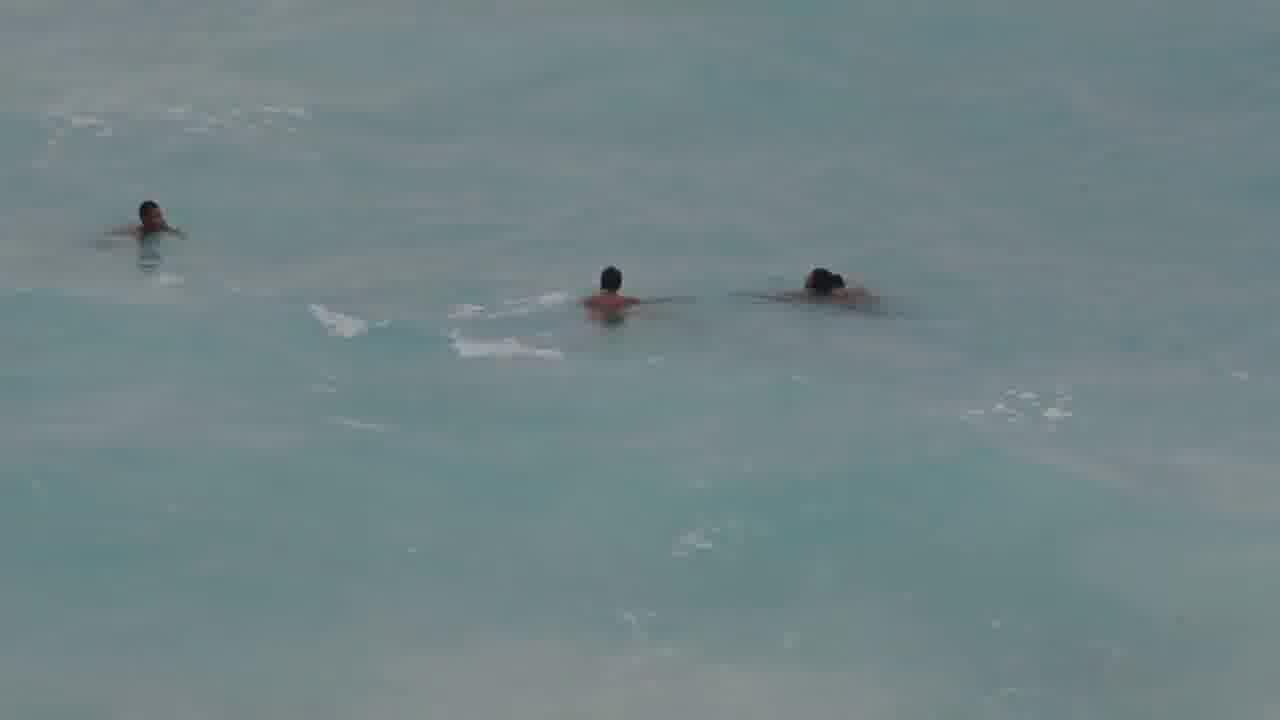swimmer: (581, 258, 645, 317), (791, 266, 869, 310), (120, 192, 182, 241)
